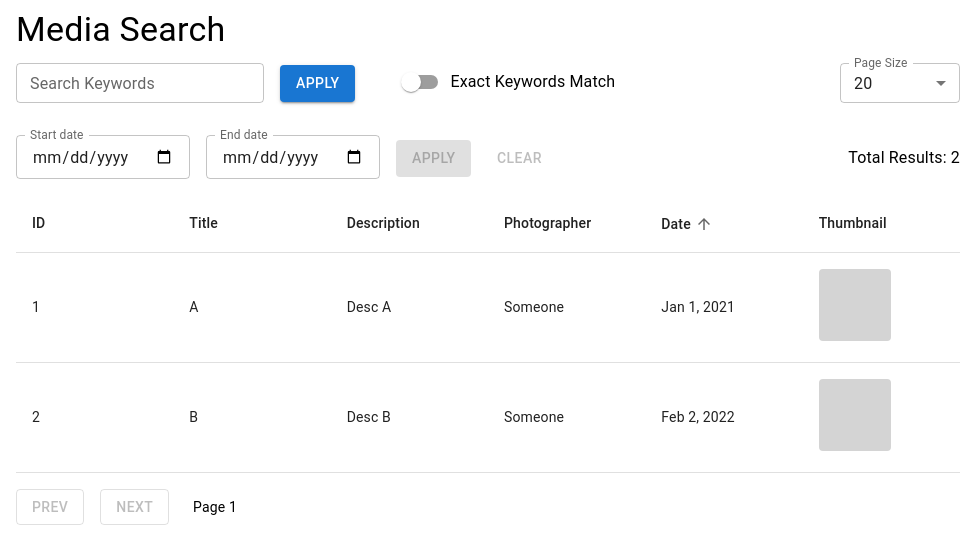
<MediaSearchPage /> › toggles sort order via the Date header and refetches
Expected: the row "1 A Desc A Someone Jan 1, 2021" is shown, [16,252,960,362]
Expected: the row "2 B Desc B Someone Feb 2, 2022" is shown, [16,362,960,472]
// Click the Date sort label in the table header
Click the button "Date" at point(689, 224), box [661,212,717,236]
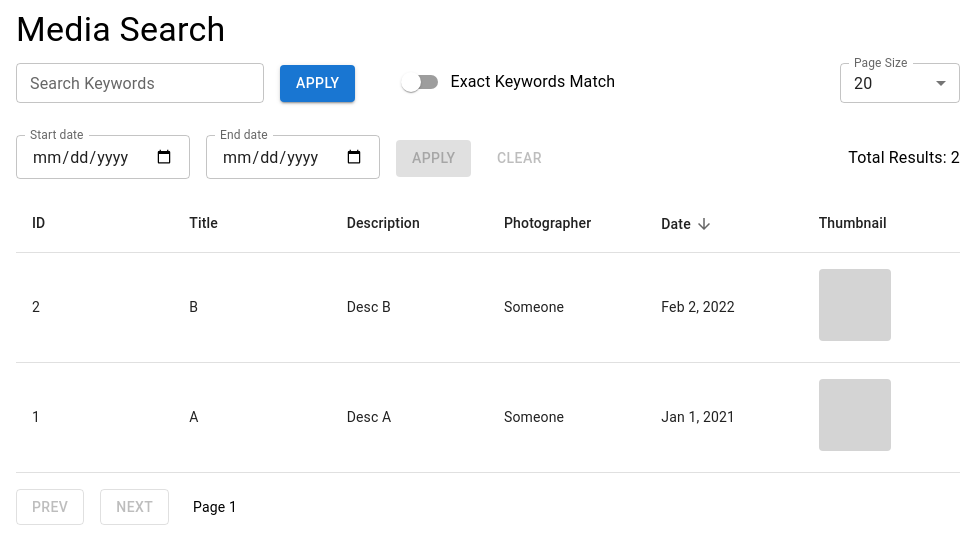
Expected: the row "2 B Desc B Someone Feb 2, 2022" is shown, [16,252,960,362]
Expected: the row "1 A Desc A Someone Jan 1, 2021" is shown, [16,362,960,472]
